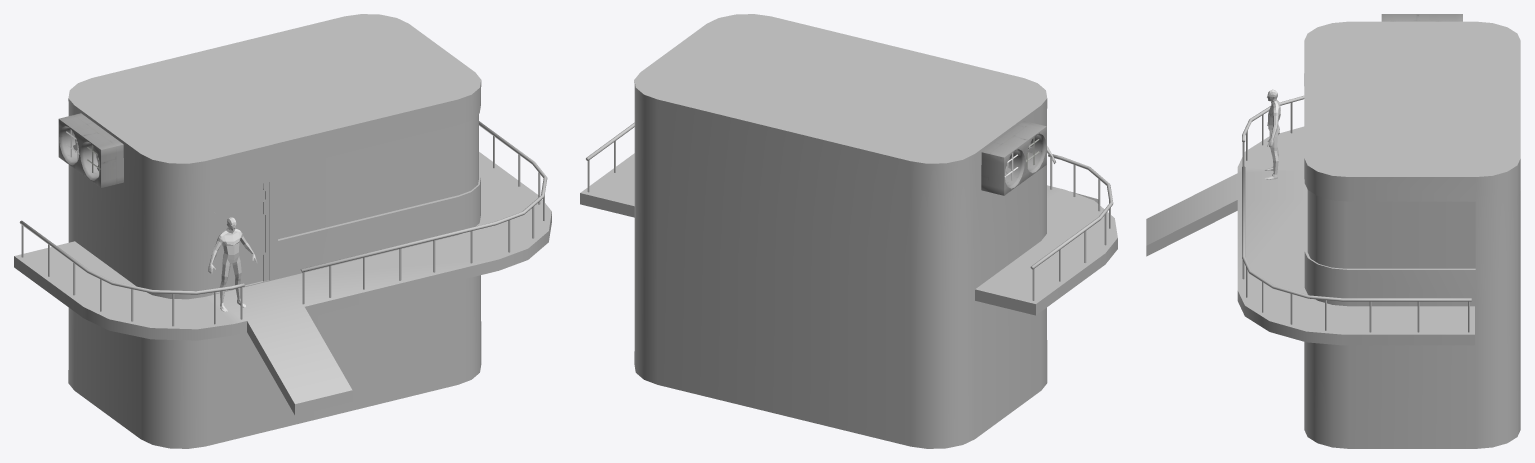
File: Lab.fbx
The picture shows the model from 3 angles, left to right: view 1: azimuth 30°, elevation 25°; view 2: azimuth 150°, elevation 25°; view 3: azimuth 270°, elevation 25°; orthographic projection. The views are drawn at different scales.
Parts seen in each view (by area): view 1: Cube.038, Cube.040, glass, Cube.048, Cube.042, Cube.067, male.003, Cube.044; view 2: Cube.038, Cube.040, Cube.067, Cube.048; view 3: Cube.038, Cube.040, glass, Cube.048, male.003, Cube.067.
Part boxes in pixels (<box>): Cube.038: <box>68,14,481,448</box>; Cube.040: <box>14,152,551,415</box>; glass: <box>278,114,478,239</box>; Cube.048: <box>19,121,547,326</box>; Cube.042: <box>214,189,264,292</box>; Cube.067: <box>58,113,123,188</box>; male.003: <box>208,217,257,311</box>; Cube.044: <box>212,182,269,293</box>; Cube.038: <box>634,14,1047,448</box>; Cube.040: <box>580,153,1117,315</box>; Cube.067: <box>981,121,1046,195</box>; Cube.048: <box>586,122,1113,300</box>; Cube.038: <box>1304,21,1520,448</box>; Cube.040: <box>1146,126,1474,345</box>; glass: <box>1307,190,1475,268</box>; Cube.048: <box>1242,95,1471,332</box>; male.003: <box>1265,89,1280,179</box>; Cube.067: <box>1381,14,1462,21</box>.
Size of the model in its own units: 935 by 560 by 698.
